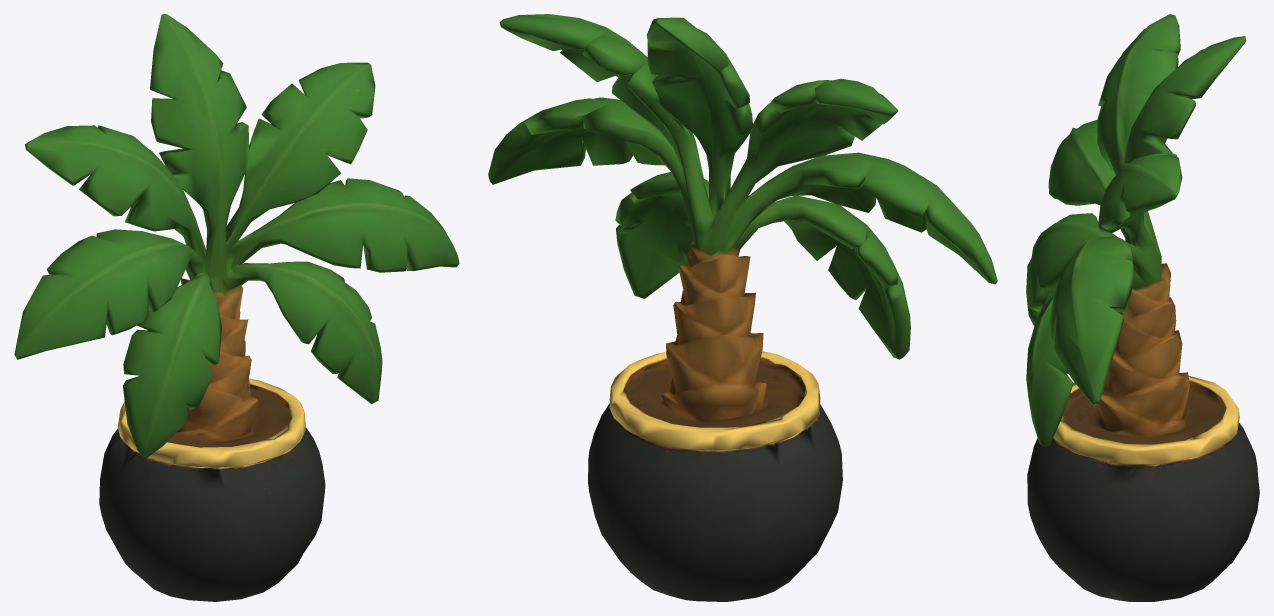
The model's file is palm.glb.
The picture shows the model from 3 angles, left to right: view 1: azimuth 30°, elevation 25°; view 2: azimuth 150°, elevation 25°; view 3: azimuth 270°, elevation 25°; orthographic projection. The views are drawn at different scales.
Parts seen in each view (by area): view 1: tripo_node_982e06c0-f798-4f75-addb-cbb396e2ddad; view 2: tripo_node_982e06c0-f798-4f75-addb-cbb396e2ddad; view 3: tripo_node_982e06c0-f798-4f75-addb-cbb396e2ddad.
Part boxes in pixels (<box>): tripo_node_982e06c0-f798-4f75-addb-cbb396e2ddad: <box>14,14,459,601</box>; tripo_node_982e06c0-f798-4f75-addb-cbb396e2ddad: <box>488,14,997,601</box>; tripo_node_982e06c0-f798-4f75-addb-cbb396e2ddad: <box>1026,14,1259,601</box>.
Bounding box in the file's own units: 0.8758 × 0.9792 × 0.3867.
1 material, 1 textured.
